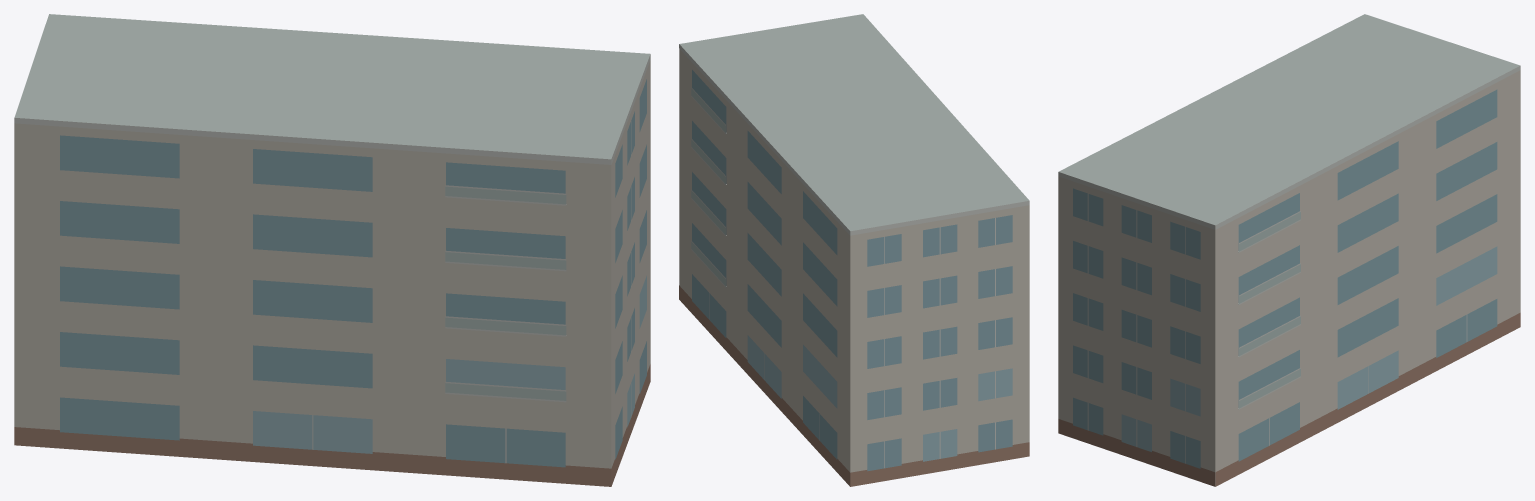
Rendered from survey-upis-32670113.glb.
3 views of the same model, side by side, from view 1: azimuth 30°, elevation 25°; view 2: azimuth 150°, elevation 25°; view 3: azimuth 270°, elevation 25° (orthographic). The views are drawn at different scales.
Parts seen in each view (by area): view 1: survey-upis-32670113.tmp; view 2: survey-upis-32670113.tmp; view 3: survey-upis-32670113.tmp.
Part boxes in pixels (box(x1,y1,x2,y2)): survey-upis-32670113.tmp: box(14, 14, 650, 486); survey-upis-32670113.tmp: box(679, 14, 1029, 486); survey-upis-32670113.tmp: box(1058, 14, 1520, 486).
Size of the model in its own units: 24.54 by 14.15 by 22.68.
